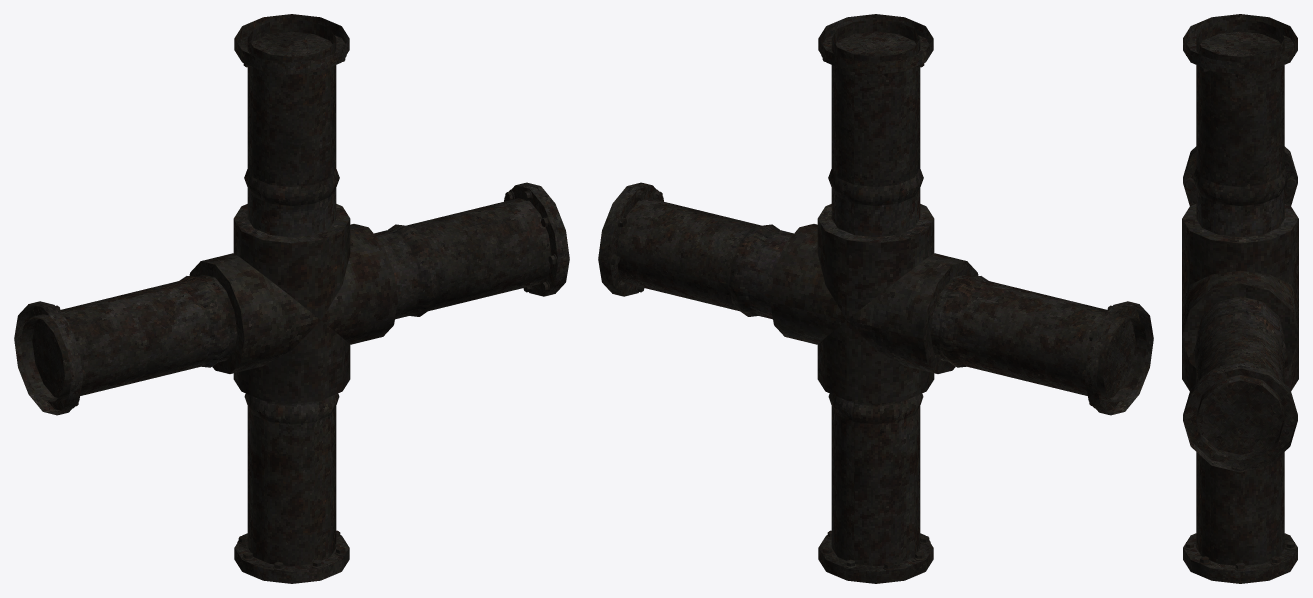
File: pipe_1_cross.glb
3 views of the same model, side by side, from view 1: azimuth 30°, elevation 25°; view 2: azimuth 150°, elevation 25°; view 3: azimuth 270°, elevation 25° (orthographic).
Visible parts, largest first — view 1: pipe_1_cross; view 2: pipe_1_cross; view 3: pipe_1_cross.
Part boxes in pixels (x1,y1,x2,y2): pipe_1_cross: [14, 14, 569, 583]; pipe_1_cross: [598, 14, 1153, 583]; pipe_1_cross: [1182, 14, 1298, 583].
Bounding box in the file's own units: 1.3 × 1.3 × 0.264.
1 material, 1 textured.
